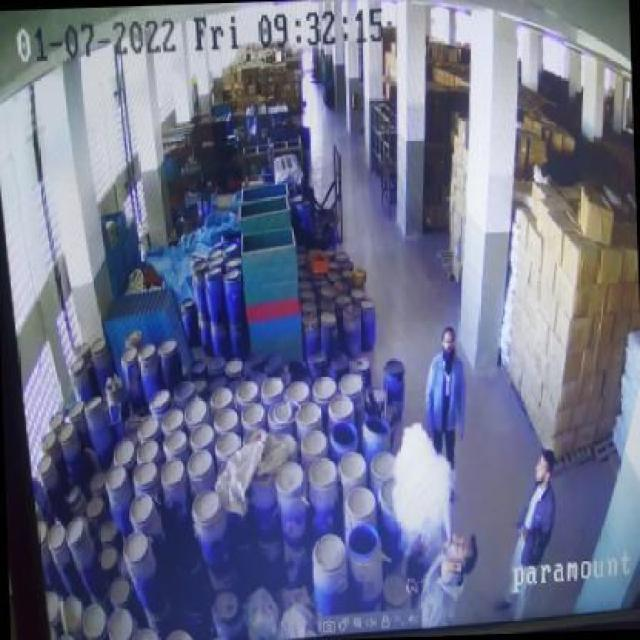fire: (390, 420, 456, 543)
